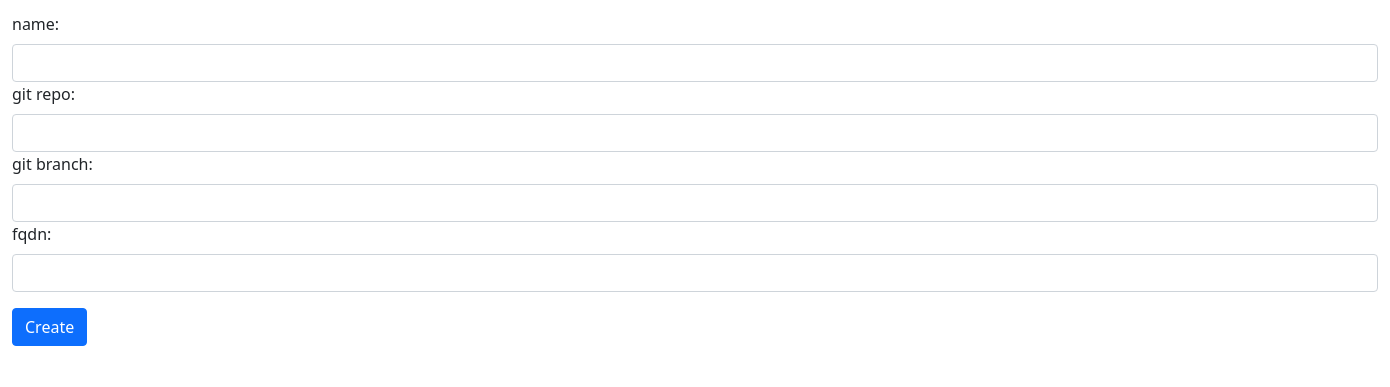
AppNginxAdd › submit nginx app wrong response
Type "test-aa" into the field with test id "nginx-add-name" at (695,63), box [12,44,1378,82]
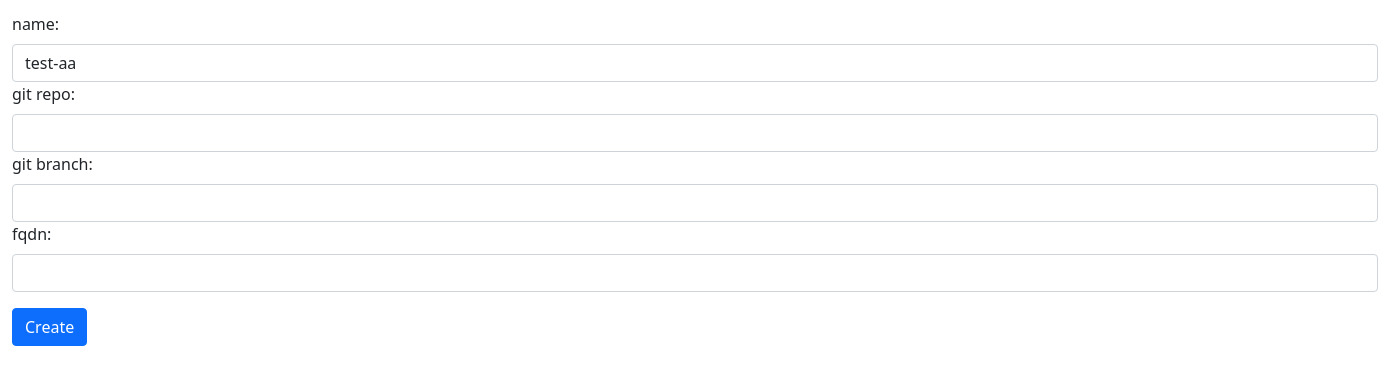
Click the button "Create" at (50,327), box [12,308,87,346]
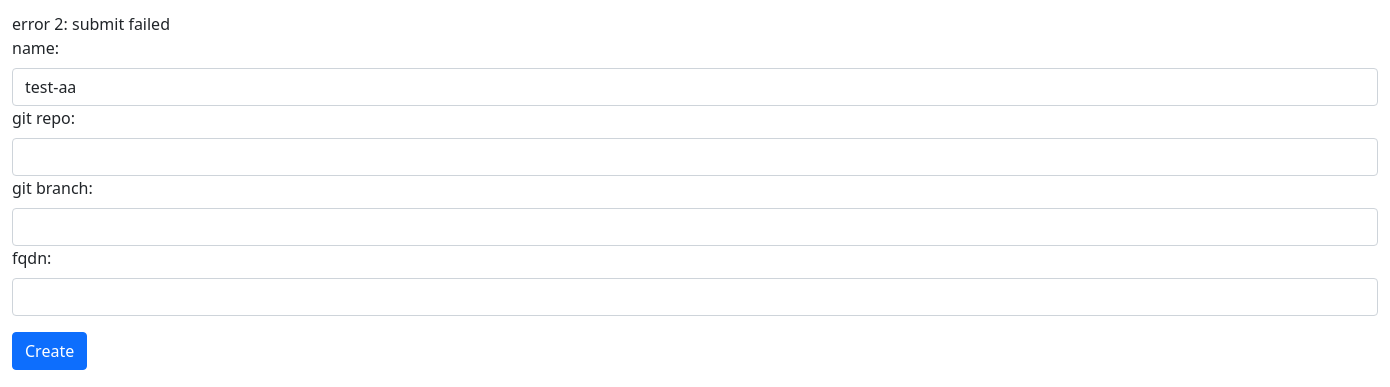
Now the text with test id "nginx-add-message" shows "submit failed", box [12,13,170,35]
